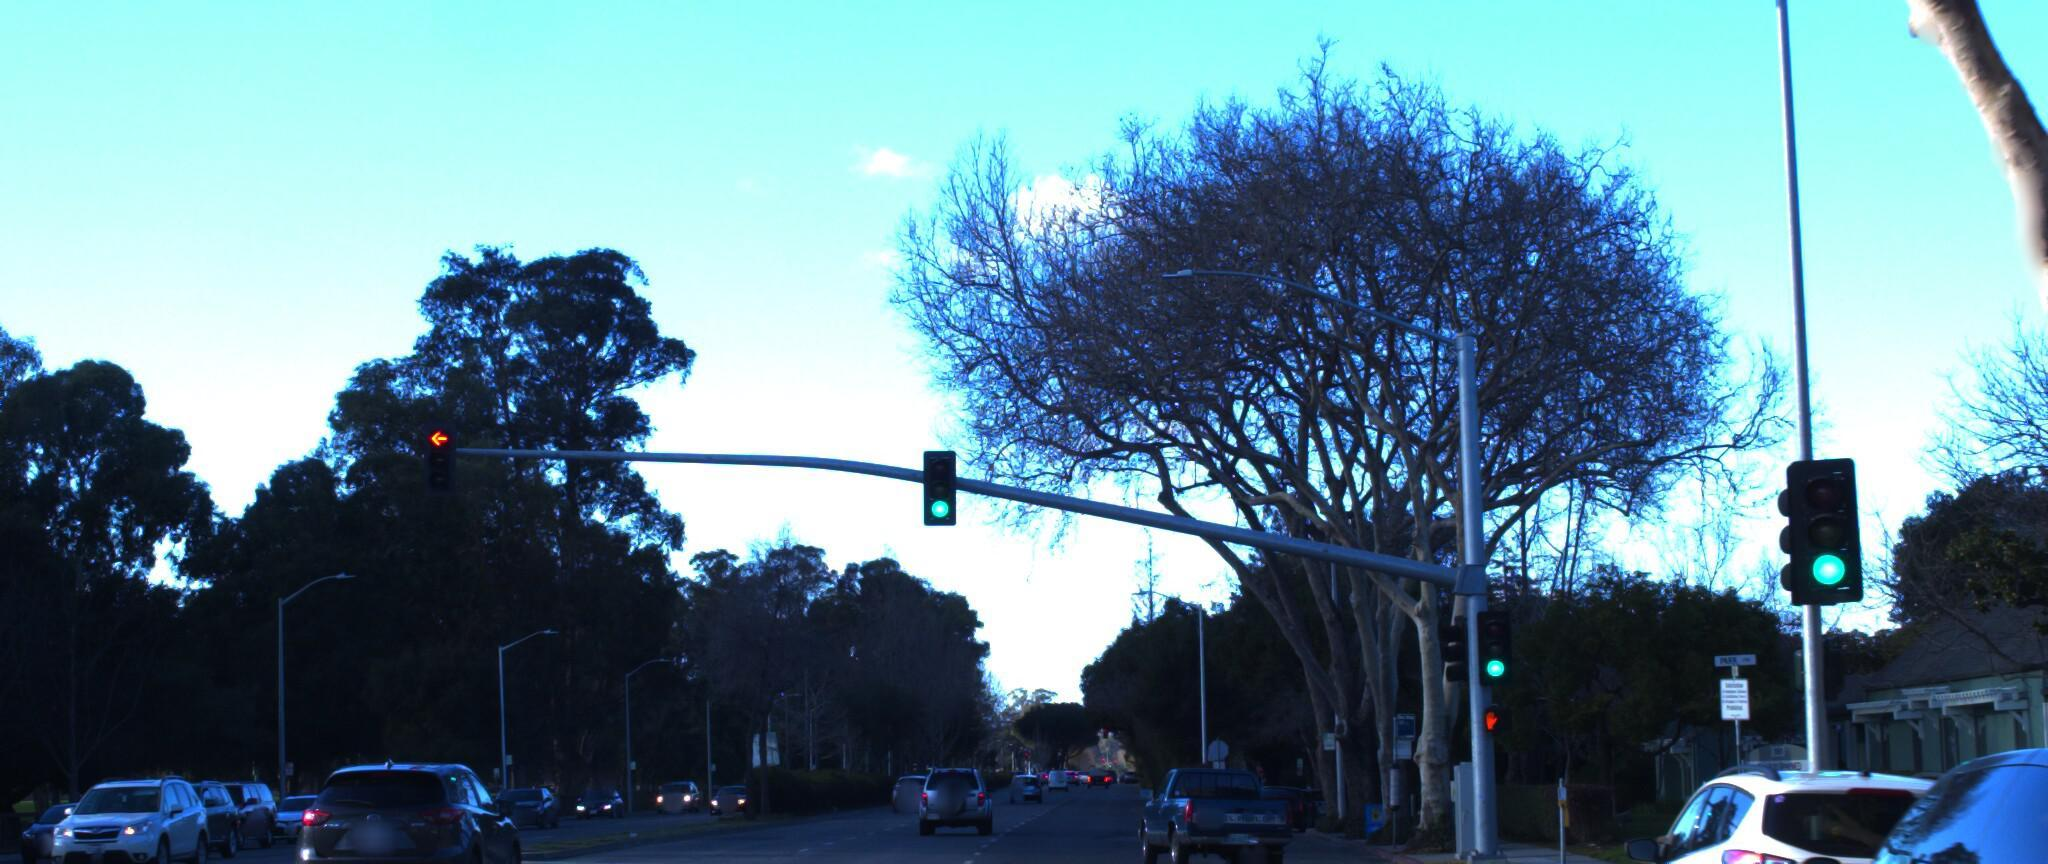car: (1587, 735, 2048, 864), (1745, 713, 2048, 864), (282, 740, 539, 864), (1112, 749, 1304, 863), (0, 754, 182, 864), (26, 762, 213, 864), (899, 748, 997, 820)
